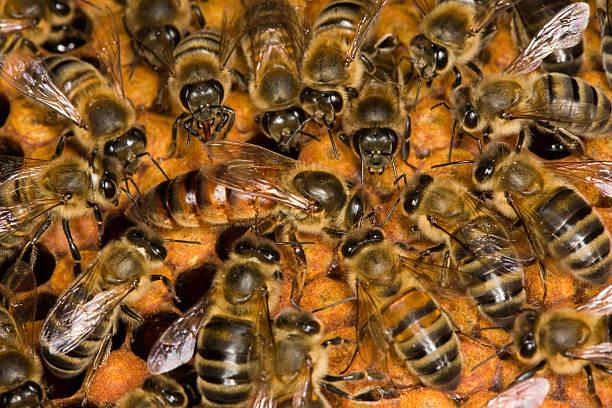Queen-Bee: (136, 141, 367, 238)
worker-bee: (147, 234, 284, 407), (2, 8, 147, 171), (39, 225, 174, 388), (340, 226, 462, 390), (451, 27, 611, 151), (472, 142, 611, 283), (401, 173, 525, 327), (299, 0, 387, 137), (0, 156, 120, 256), (241, 0, 305, 149), (167, 28, 234, 154)
